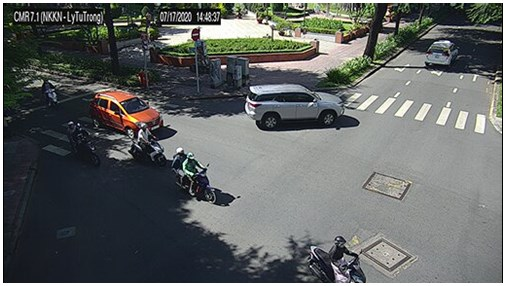xe_hoi: (245, 84, 344, 129), (90, 90, 163, 140), (425, 40, 459, 69)
xe_may: (308, 236, 366, 282), (172, 148, 217, 205), (130, 123, 168, 167), (67, 121, 100, 166), (40, 78, 60, 111)
